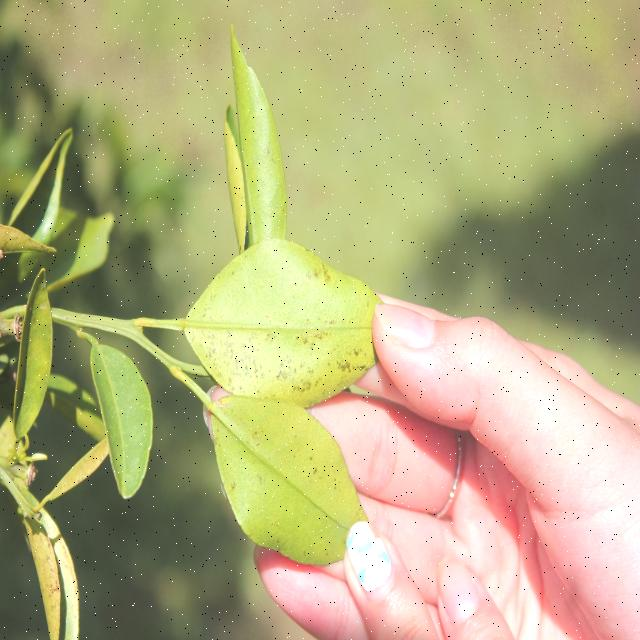melanose: (184, 254, 383, 402)
